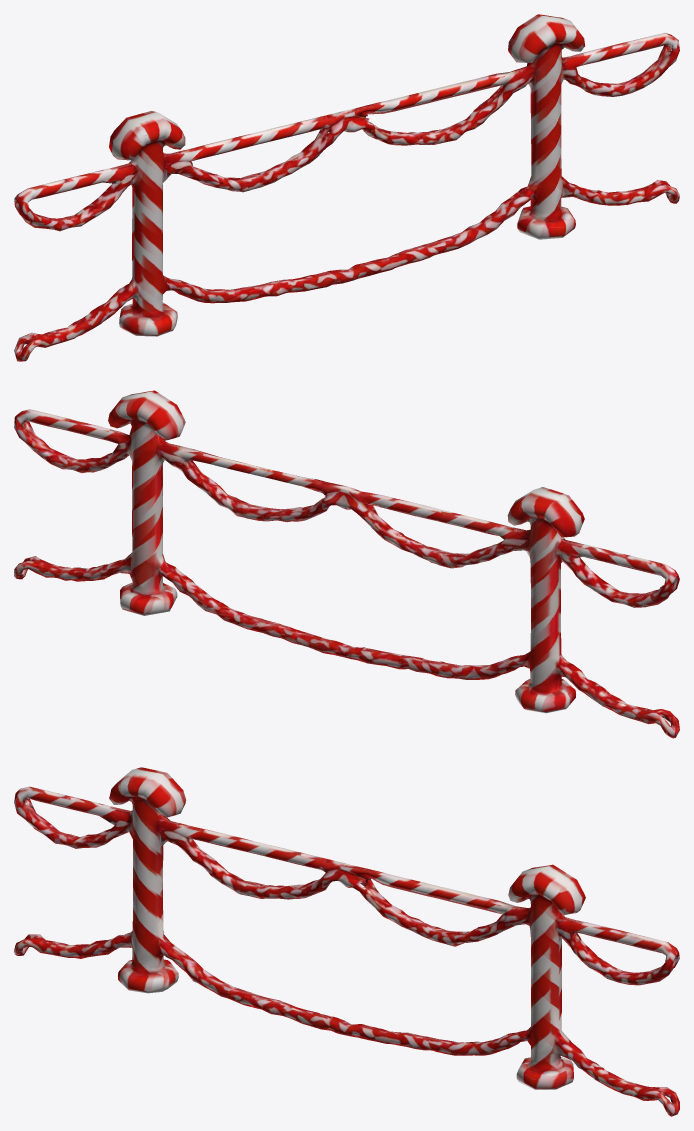
File: Meshy_AI_Candy_Cane_Barrier_0104071334_texture.fbx
3 views of the same model, one above another, from view 1: azimuth 30°, elevation 25°; view 2: azimuth 150°, elevation 25°; view 3: azimuth 330°, elevation 25° (orthographic).
Visible parts, largest first — view 1: Mesh0; view 2: Mesh0; view 3: Mesh0.
Part boxes in pixels (x1=…): Mesh0: x1=14, y1=14, x2=679, y2=361; Mesh0: x1=14, y1=390, x2=679, y2=738; Mesh0: x1=14, y1=767, x2=679, y2=1116.
Size of the model in its own units: 191 by 60.07 by 15.15.
1 material, 1 textured.
